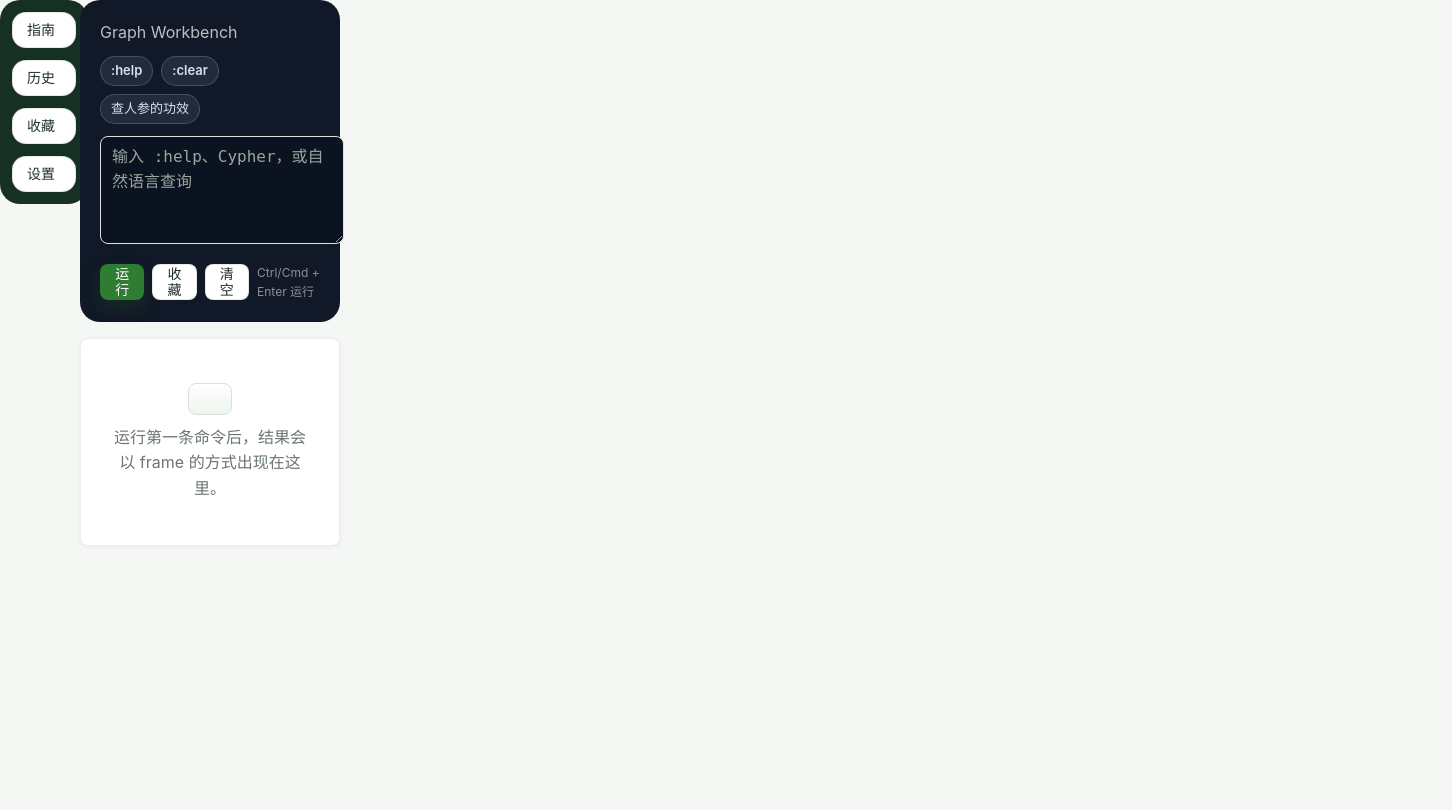
Test: GraphWorkbenchPage › shows guide sections in the guides drawer
The image size is (1452, 810).
Click the button with aria-label "打开指南抽屉" at [44, 30], box top-left (12, 12), bottom-right (76, 48)
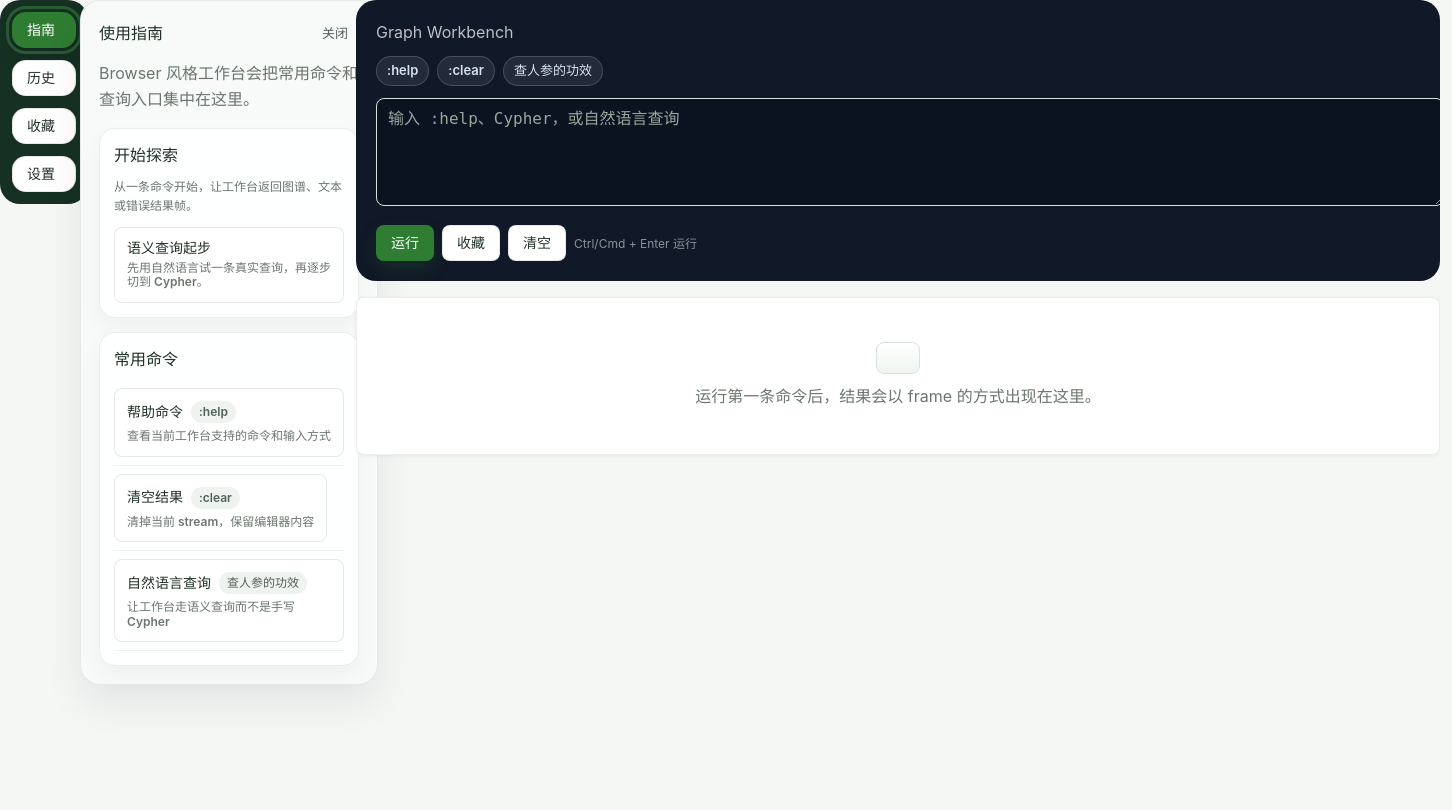
Expected: the text "开始探索" is shown, top-left (114, 145), bottom-right (178, 165)
Expected: the text "常用命令" is shown, top-left (114, 349), bottom-right (178, 369)
